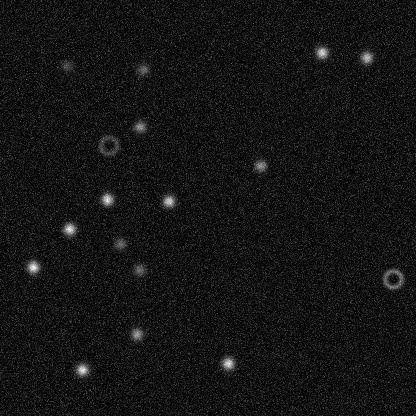Ring: (96, 133, 120, 157), (380, 266, 404, 290)
Spot: (99, 191, 115, 207), (58, 58, 74, 74), (313, 44, 329, 60), (220, 355, 236, 371), (160, 193, 176, 209), (252, 157, 268, 173), (132, 118, 148, 134), (112, 235, 128, 251), (128, 326, 144, 342), (74, 361, 90, 377), (61, 221, 77, 237), (25, 258, 41, 274), (135, 61, 151, 77), (131, 261, 147, 277), (358, 49, 374, 65)
